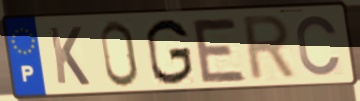0: (98, 19, 141, 90)
C: (294, 13, 344, 78)
E: (189, 16, 250, 85)
G: (143, 17, 196, 88)
K: (46, 25, 92, 88)
R: (240, 12, 300, 84)
